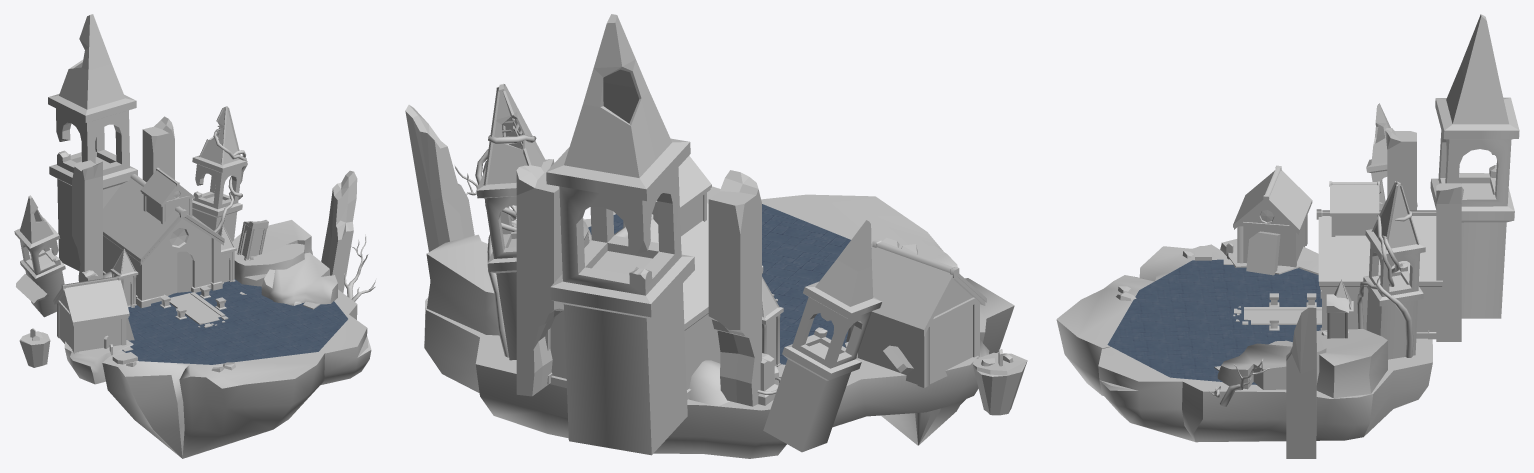
File: jifendixia_boss_01.FBX
The picture shows the model from 3 angles, left to right: view 1: azimuth 30°, elevation 25°; view 2: azimuth 150°, elevation 25°; view 3: azimuth 270°, elevation 25°; orthographic projection. The views are drawn at different scales.
Visible parts, largest first — view 1: jifendixia_boss_01c, jifendixia_boss_01b, jifendixia_boss_01a; view 2: jifendixia_boss_01c, jifendixia_boss_01b, jifendixia_boss_01a; view 3: jifendixia_boss_01c, jifendixia_boss_01b, jifendixia_boss_01a.
Boxes of the visible parts, left/top/right/bottom form: jifendixia_boss_01c: left=14, top=14, right=376, bottom=372; jifendixia_boss_01b: left=64, top=170, right=371, bottom=458; jifendixia_boss_01a: left=122, top=279, right=347, bottom=364; jifendixia_boss_01c: left=454, top=14, right=1027, bottom=455; jifendixia_boss_01b: left=405, top=105, right=1014, bottom=458; jifendixia_boss_01a: left=588, top=204, right=850, bottom=364; jifendixia_boss_01c: left=1116, top=14, right=1519, bottom=406; jifendixia_boss_01b: left=1056, top=239, right=1432, bottom=458; jifendixia_boss_01a: left=1107, top=259, right=1321, bottom=384.
Size of the model in its own units: 3732 by 3484 by 3625.
